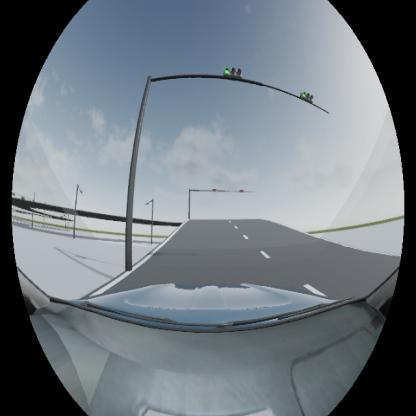Green Light: (224, 66, 243, 80), (300, 89, 314, 102)
